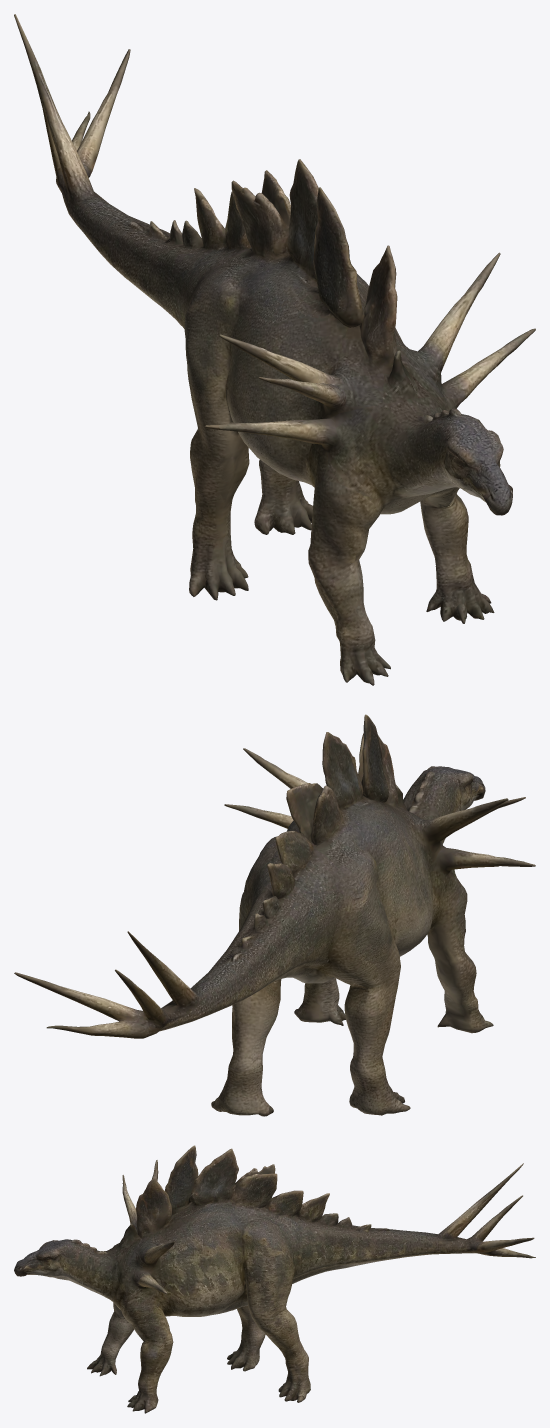
The model's file is kentrosaurus.glb.
The picture shows the model from 3 angles, top to bottom: view 1: azimuth 30°, elevation 25°; view 2: azimuth 150°, elevation 25°; view 3: azimuth 270°, elevation 25°; orthographic projection. The views are drawn at different scales.
Visible parts, largest first — view 1: dino; view 2: dino; view 3: dino.
Part boxes in pixels (x1,y1,x2,y2): dino: [14, 14, 535, 685]; dino: [14, 714, 535, 1116]; dino: [14, 1145, 535, 1413].
Size of the model in its own units: 1.95 by 2.25 by 4.5.
1 material, 1 textured.
